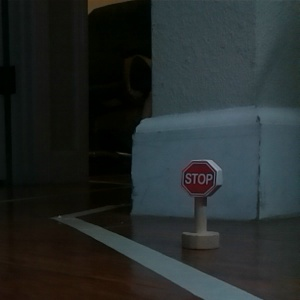stop sign: (178, 158, 224, 253)
